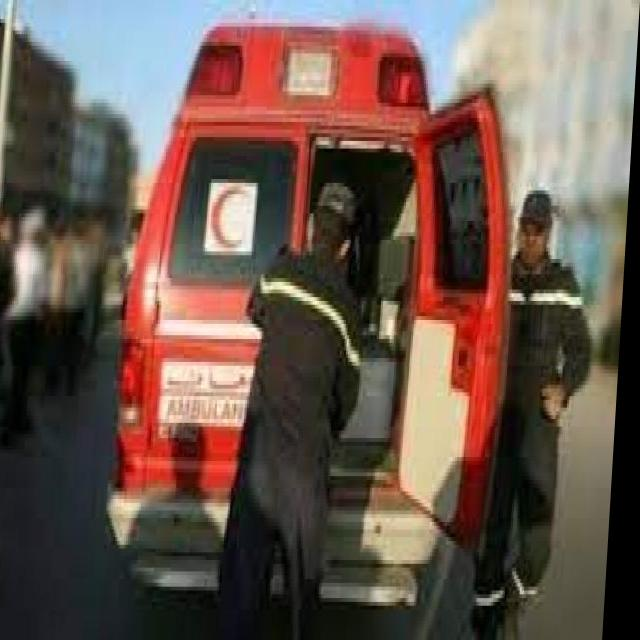ambulance: (95, 9, 534, 640)
